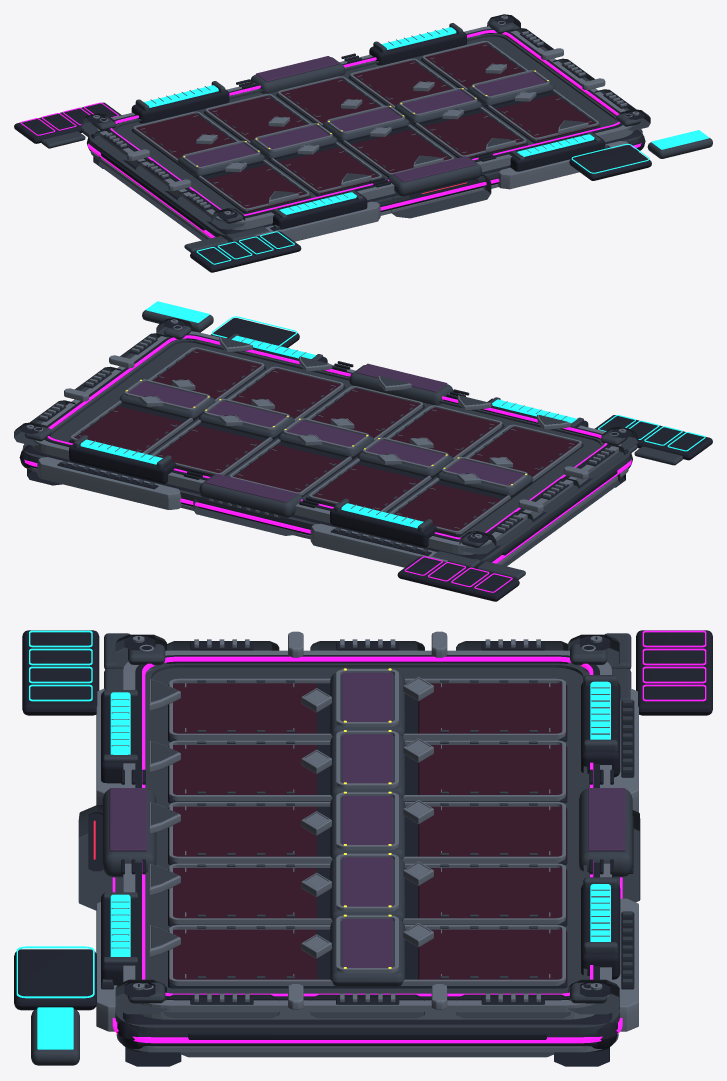
The model's file is ouroboros-board-v3.glb.
The picture shows the model from 3 angles, top to bottom: view 1: azimuth 30°, elevation 25°; view 2: azimuth 150°, elevation 25°; view 3: azimuth 270°, elevation 25°; orthographic projection. The views are drawn at different scales.
Visible parts, largest first — view 1: Table_wine-black_field_glass, Table_graphite_titanium, Table_milled_gunmetal, Table_obsidian_polymer, Table_Location_smoked_violet, Table_cyan_Data_Center_core, Table_magenta_inlay; view 2: Table_wine-black_field_glass, Table_graphite_titanium, Table_milled_gunmetal, Table_obsidian_polymer, Table_Location_smoked_violet, Table_cyan_Data_Center_core, Table_magenta_inlay; view 3: Table_wine-black_field_glass, Table_graphite_titanium, Table_obsidian_polymer, Table_milled_gunmetal, Table_Location_smoked_violet, Table_cyan_Data_Center_core, Table_magenta_inlay.
Part boxes in pixels (box(x1,y1,x2,y2)): Table_wine-black_field_glass: box(136, 43, 597, 211); Table_graphite_titanium: box(41, 14, 712, 252); Table_milled_gunmetal: box(90, 15, 639, 241); Table_obsidian_polymer: box(14, 14, 651, 272); Table_Location_smoked_violet: box(185, 56, 546, 182); Table_cyan_Data_Center_core: box(144, 27, 709, 264); Table_magenta_inlay: box(20, 30, 641, 238); Table_wine-black_field_glass: box(72, 349, 578, 534); Table_graphite_titanium: box(14, 310, 682, 579); Table_milled_gunmetal: box(26, 319, 628, 567); Table_obsidian_polymer: box(19, 318, 712, 601); Table_Location_smoked_violet: box(128, 363, 524, 502); Table_cyan_Data_Center_core: box(80, 301, 705, 528); Table_magenta_inlay: box(24, 335, 631, 592); Table_wine-black_field_glass: box(168, 683, 566, 982); Table_graphite_titanium: box(31, 633, 640, 1065); Table_obsidian_polymer: box(14, 630, 712, 1066); Table_milled_gunmetal: box(96, 631, 638, 1052); Table_Location_smoked_violet: box(109, 672, 625, 967); Table_cyan_Data_Center_core: box(16, 630, 610, 1049); Table_magenta_inlay: box(112, 630, 706, 1043).
Size of the model in its own units: 19.6 by 1.77 by 13.44.
